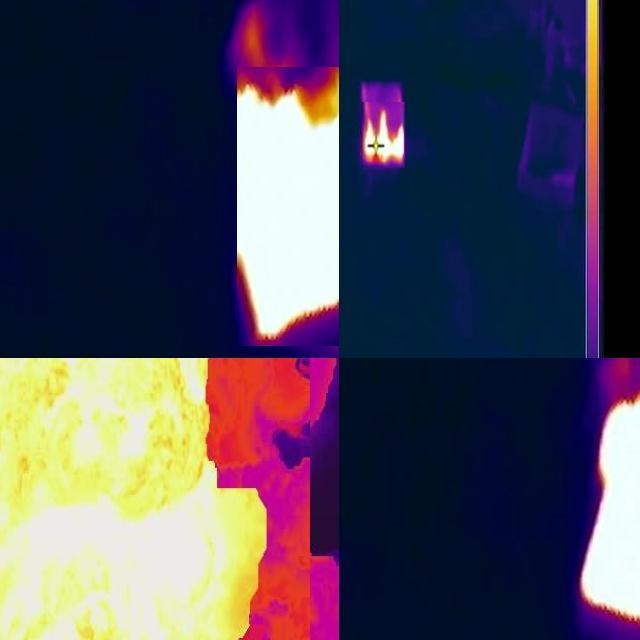fire: (1, 359, 270, 640), (237, 67, 340, 346), (579, 363, 640, 640), (361, 102, 405, 168)
